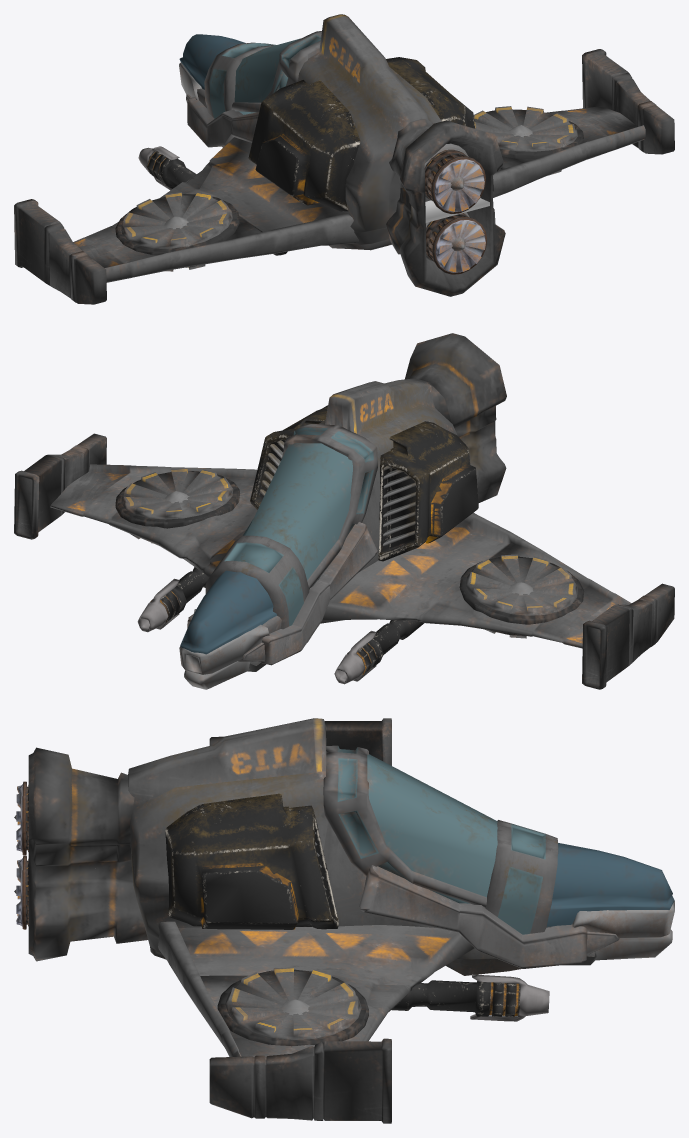
Rendered from hornet.obj.
3 views of the same model, one above another, from view 1: azimuth 30°, elevation 25°; view 2: azimuth 150°, elevation 25°; view 3: azimuth 270°, elevation 25° (orthographic). The views are drawn at different scales.
Parts seen in each view (by area): view 1: LGEFULL3_LGEFULL3_initialShadingGroup, LGEFULL3_LGEFULL3_blinn6SG; view 2: LGEFULL3_LGEFULL3_initialShadingGroup, LGEFULL3_LGEFULL3_blinn6SG; view 3: LGEFULL3_LGEFULL3_initialShadingGroup, LGEFULL3_LGEFULL3_blinn6SG.
Part boxes in pixels (<box>): LGEFULL3_LGEFULL3_initialShadingGroup: <box>14,14,674,304</box>; LGEFULL3_LGEFULL3_blinn6SG: <box>179,34,245,89</box>; LGEFULL3_LGEFULL3_initialShadingGroup: <box>14,333,674,689</box>; LGEFULL3_LGEFULL3_blinn6SG: <box>180,570,276,654</box>; LGEFULL3_LGEFULL3_initialShadingGroup: <box>14,718,674,1123</box>; LGEFULL3_LGEFULL3_blinn6SG: <box>546,843,674,927</box>.
Size of the model in its own units: 2.67 by 0.89 by 2.14.
Materials: 2 (2 with a texture image).
